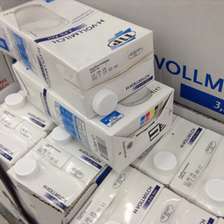milk: (1, 1, 161, 115)
